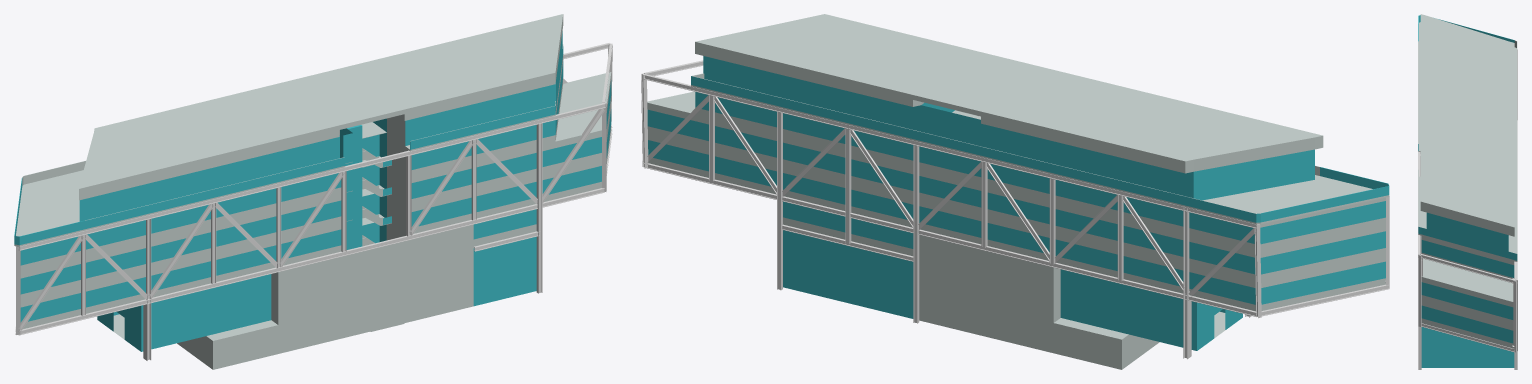
File: CIA29.fbx
3 views of the same model, side by side, from view 1: azimuth 30°, elevation 25°; view 2: azimuth 150°, elevation 25°; view 3: azimuth 270°, elevation 25° (orthographic). The views are drawn at different scales.
Parts seen in each view (by area): view 1: Cube.017, Cube.004, Cube.010, Cube.018, Cube.005, Cube.033, Cube.040, Cube.042, Cube.041, Cube.043, Cube.045, Cube.046 (+2 smaller); view 2: Cube.017, Cube.003, Cube.009, Cube.023, Cube.002, Cube.025, Cube.037, Cube.024, Cube.001, Cube.032, Cube.031, Cube.044 (+4 smaller); view 3: Cube.017, Cube.028, Cube.007, Cube.027, Cube.010, Cube.019, Cube.009, Cube.018.
Boxes of the visible parts, bbox=[...] form: Cube.017: bbox=[14, 14, 611, 369]; Cube.004: bbox=[19, 188, 604, 335]; Cube.010: bbox=[19, 103, 605, 250]; Cube.018: bbox=[536, 123, 542, 293]; Cube.005: bbox=[143, 219, 151, 360]; Cube.033: bbox=[542, 108, 604, 202]; Cube.040: bbox=[18, 236, 84, 330]; Cube.042: bbox=[279, 172, 344, 266]; Cube.041: bbox=[148, 204, 213, 298]; Cube.043: bbox=[409, 140, 474, 235]; Cube.045: bbox=[83, 234, 148, 299]; Cube.046: bbox=[214, 202, 279, 268]; Cube.017: bbox=[647, 14, 1389, 369]; Cube.003: bbox=[643, 163, 1257, 316]; Cube.009: bbox=[643, 74, 1256, 228]; Cube.023: bbox=[913, 144, 919, 323]; Cube.002: bbox=[1183, 207, 1191, 359]; Cube.025: bbox=[777, 111, 782, 290]; Cube.037: bbox=[782, 224, 913, 261]; Cube.024: bbox=[845, 127, 851, 243]; Cube.001: bbox=[1261, 284, 1389, 316]; Cube.032: bbox=[850, 130, 913, 227]; Cube.031: bbox=[986, 163, 1049, 261]; Cube.044: bbox=[714, 96, 776, 194]; Cube.017: bbox=[1418, 14, 1517, 367]; Cube.028: bbox=[1420, 254, 1514, 283]; Cube.007: bbox=[1421, 323, 1514, 352]; Cube.027: bbox=[1513, 280, 1517, 352]; Cube.010: bbox=[1418, 24, 1420, 257]; Cube.019: bbox=[1418, 254, 1422, 326]; Cube.009: bbox=[1515, 49, 1517, 283]; Cube.018: bbox=[1418, 235, 1421, 369].
Bounding box in the file's own units: 10088 × 3178 × 1648.
